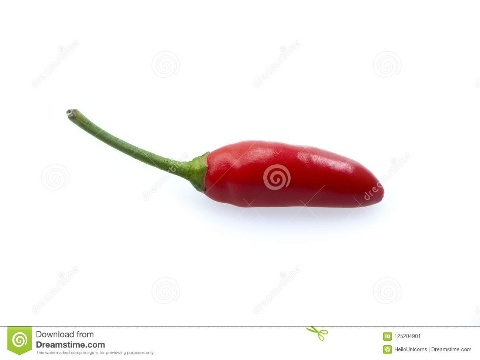Chilli: (62, 96, 396, 231)
